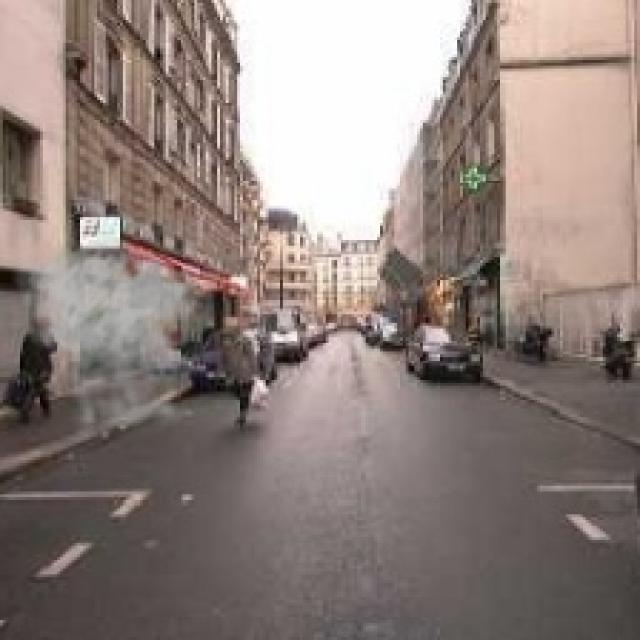smoke: (11, 234, 220, 443)
